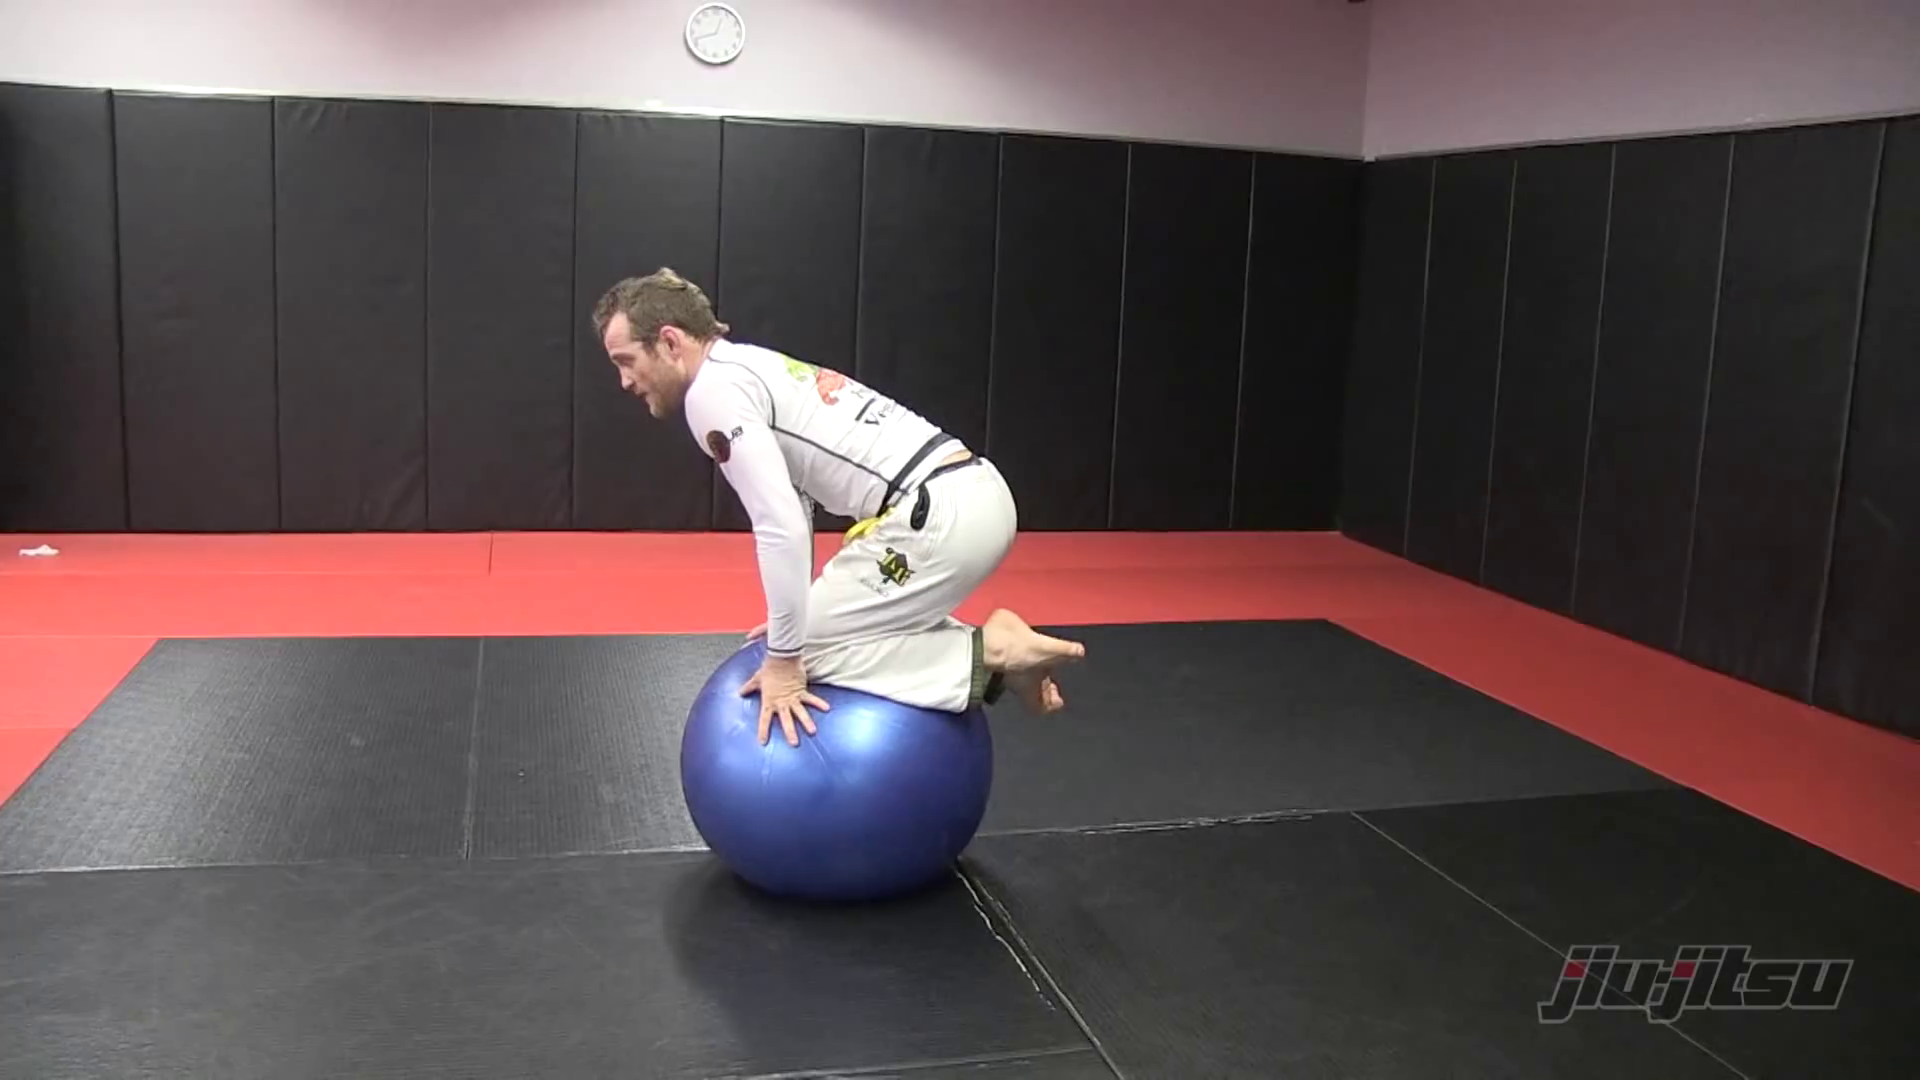yogaball: (654, 638, 1030, 922)
